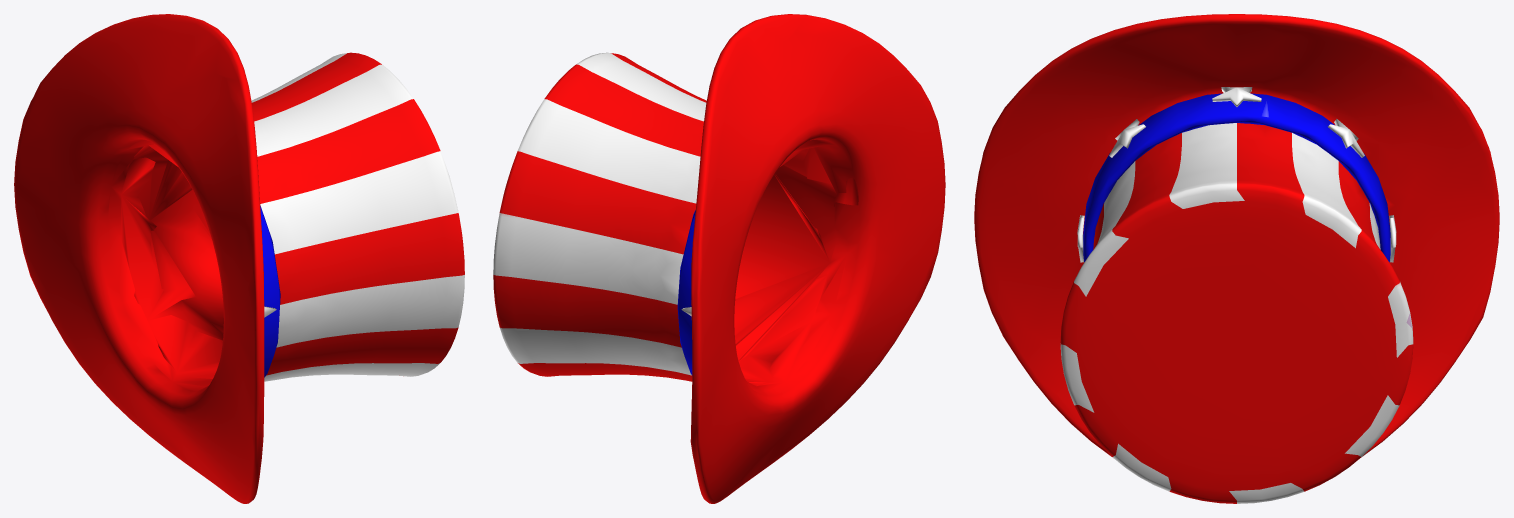
The model's file is UncleSamHat.fbx.
3 views of the same model, side by side, from view 1: azimuth 30°, elevation 25°; view 2: azimuth 150°, elevation 25°; view 3: azimuth 270°, elevation 25° (orthographic). The views are drawn at different scales.
Visible parts, largest first — view 1: UncleSamHat3; view 2: UncleSamHat3; view 3: UncleSamHat3.
Part boxes in pixels (x1=…): UncleSamHat3: x1=14, y1=14, x2=464, y2=503; UncleSamHat3: x1=493, y1=14, x2=945, y2=503; UncleSamHat3: x1=974, y1=14, x2=1499, y2=503.
Bounding box in the file's own units: 0.1392 × 0.24 × 0.2357.
